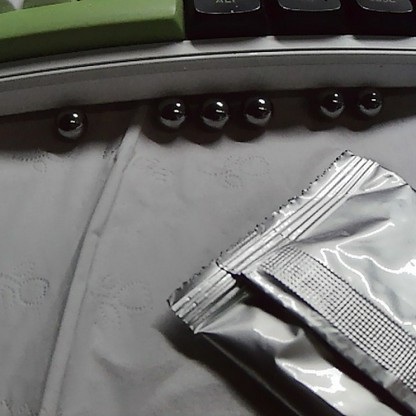ironball: (235, 85, 281, 126), (150, 90, 191, 131), (51, 103, 87, 139), (317, 84, 350, 117), (355, 81, 381, 117), (202, 97, 228, 130)
